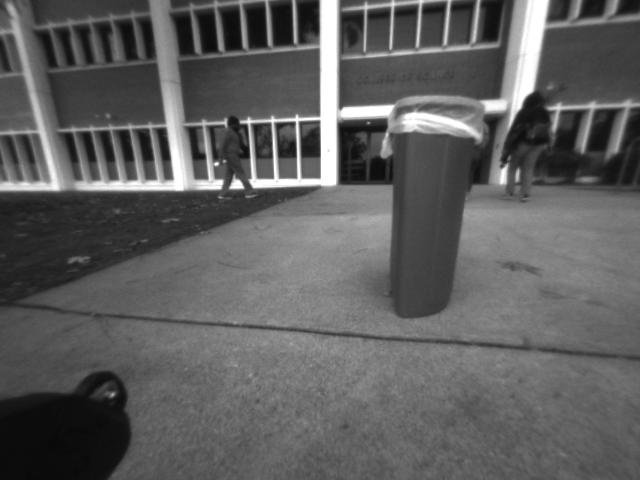trashcan: (379, 87, 496, 327)
